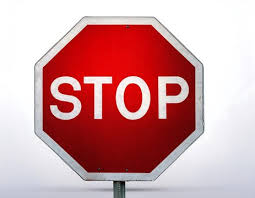stop sign: (33, 15, 205, 182)
